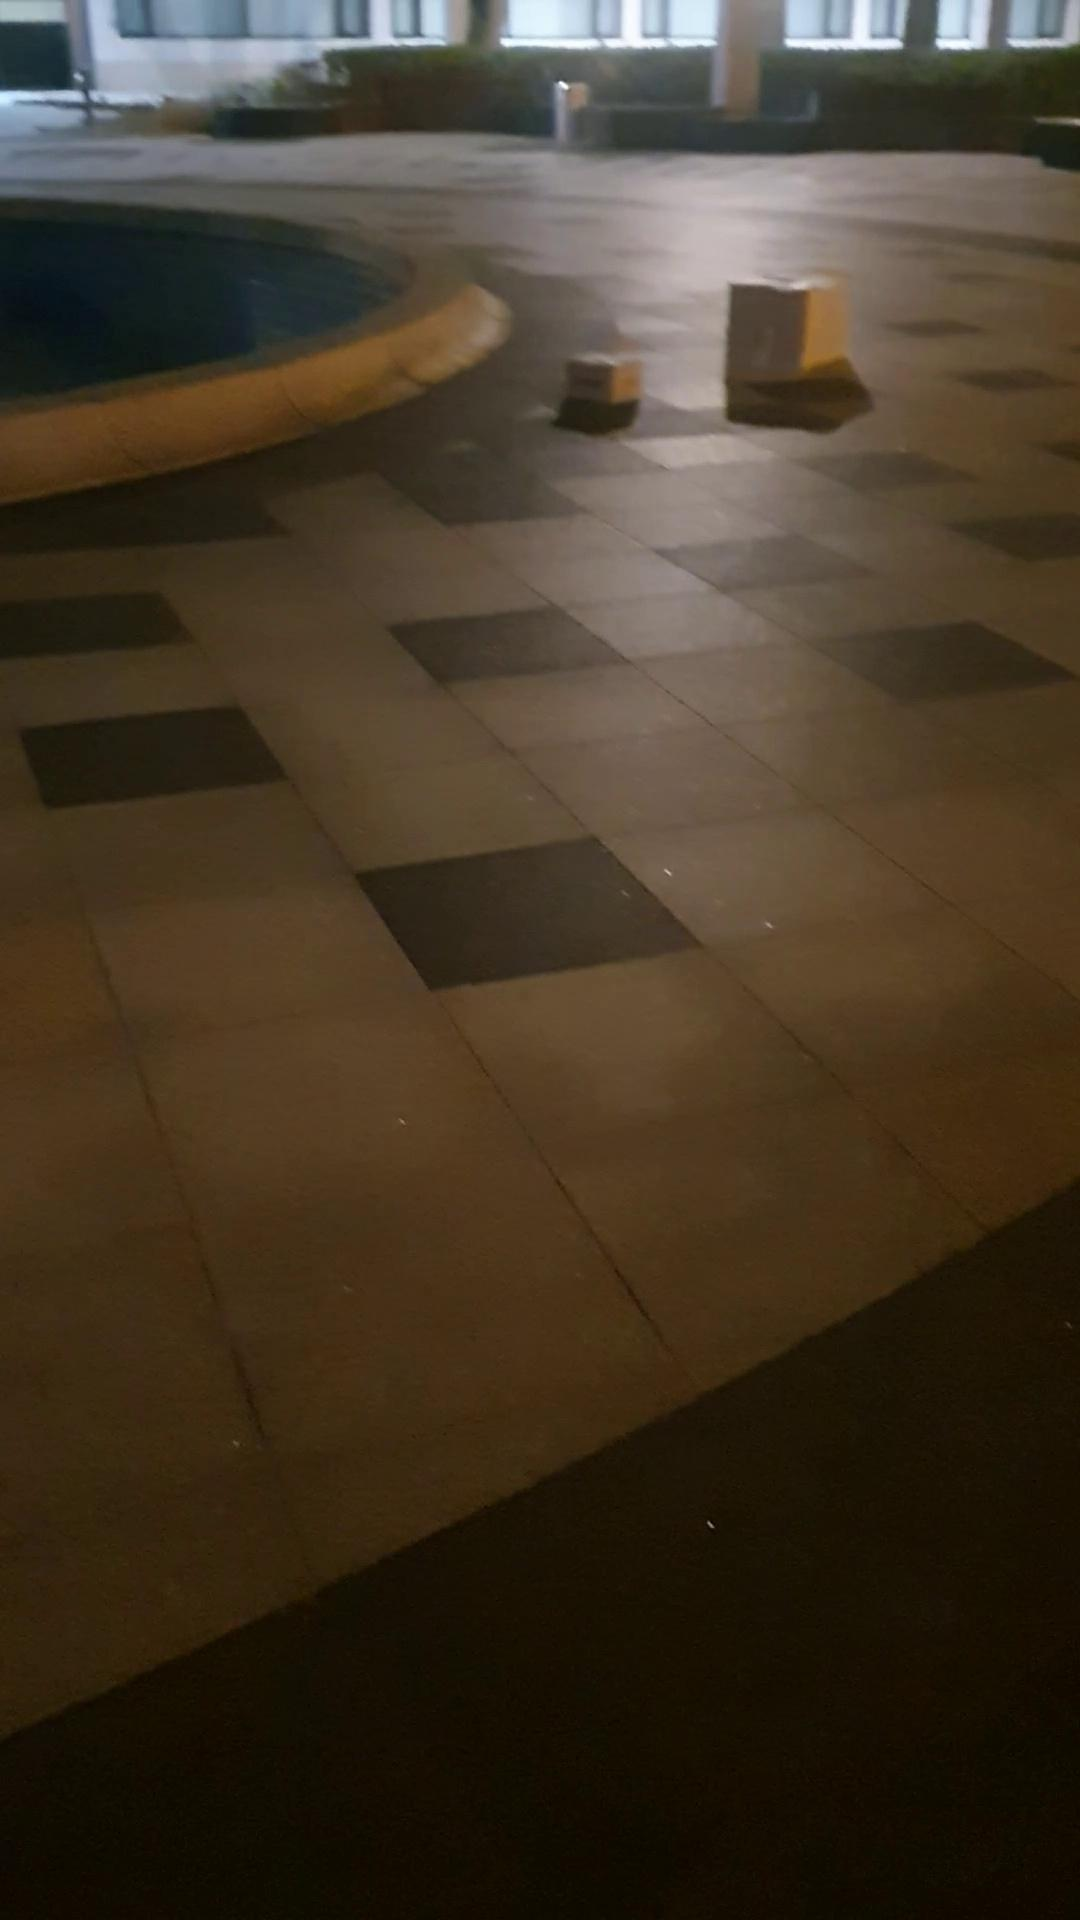Box: (713, 268, 864, 398), (563, 353, 655, 418)
